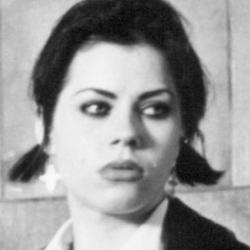face: (5, 1, 232, 232)
